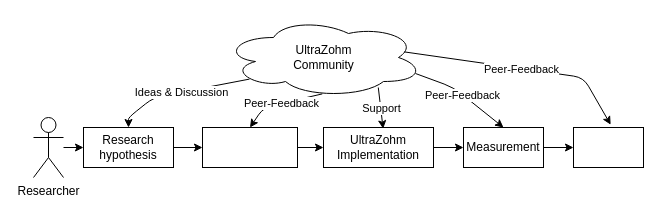
The diagram is 661 pixels wide and 216 high, and some of its shapes have lost their labels. Each missing label, with the centre of its shape:
Literature & Simulation: the point at 250,147
Publication: the point at 608,147
